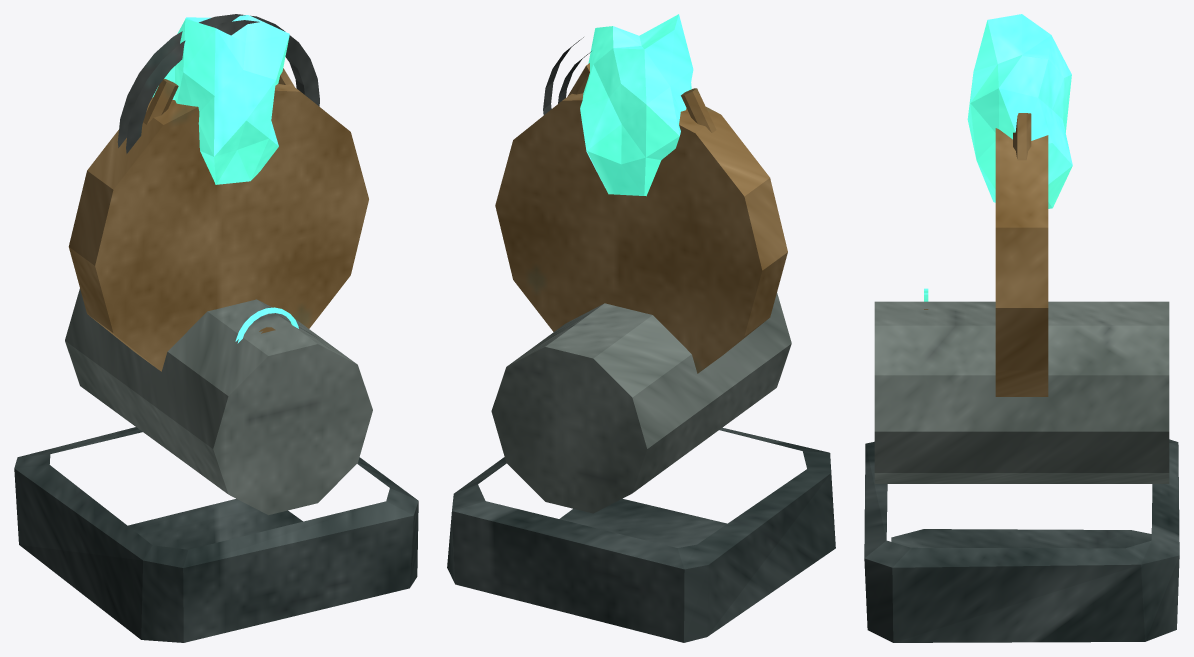
File: 0596_relic_pedestal_21.glb
The picture shows the model from 3 angles, left to right: view 1: azimuth 30°, elevation 25°; view 2: azimuth 150°, elevation 25°; view 3: azimuth 270°, elevation 25°; orthographic projection. The views are drawn at different scales.
Parts seen in each view (by area): view 1: brass, stone_dark, stone, glow, iron; view 2: brass, stone_dark, stone, glow, iron; view 3: stone, stone_dark, brass, glow.
Part boxes in pixels (x1,y1,x2,y2): brass: [68, 68, 368, 371]; stone_dark: [14, 427, 418, 642]; stone: [65, 289, 372, 515]; glow: [152, 15, 298, 343]; iron: [117, 14, 319, 153]; brass: [495, 63, 787, 373]; stone_dark: [447, 427, 835, 642]; stone: [491, 293, 791, 513]; glow: [580, 14, 693, 196]; iron: [543, 37, 591, 114]; stone: [874, 301, 1169, 483]; stone_dark: [864, 439, 1179, 642]; brass: [924, 113, 1048, 396]; glow: [924, 14, 1072, 301].
Size of the model in its own units: 0.9674 by 1.87 by 0.9624.
5 materials, 5 textured.
